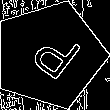P_SW: (18, 23, 81, 87)
